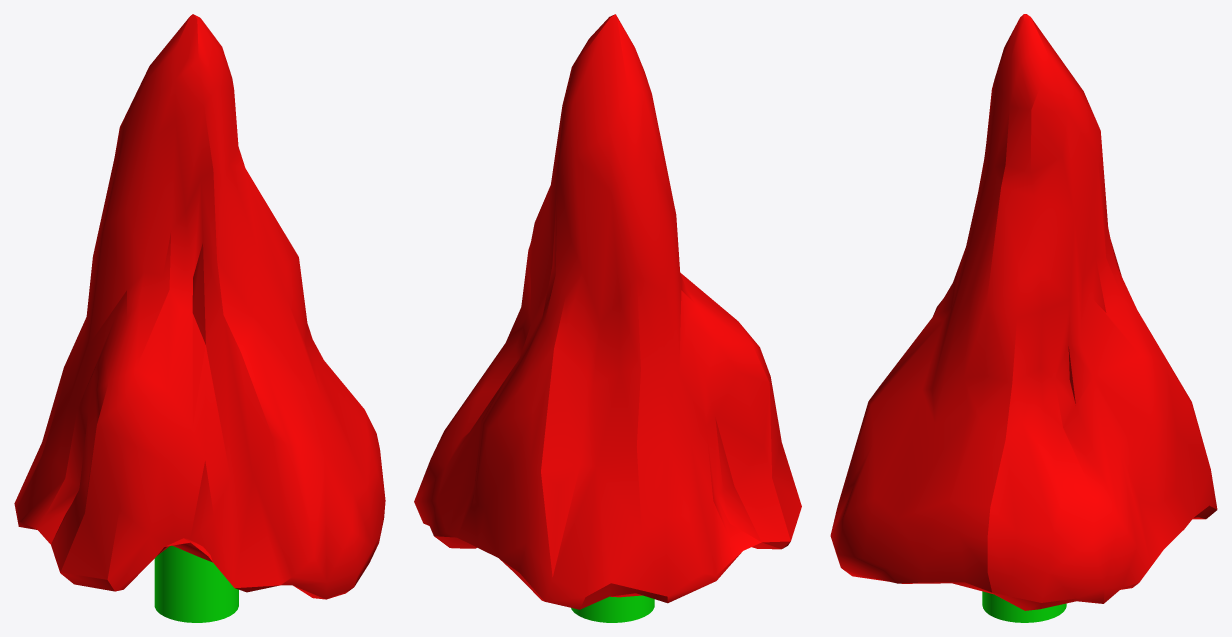
File: Christmas Tree 4.fbx
3 renders of one model, left to right at view 1: azimuth 30°, elevation 25°; view 2: azimuth 150°, elevation 25°; view 3: azimuth 270°, elevation 25°, orthographic.
Visible parts, largest first — view 1: Christmas Tree 4; view 2: Christmas Tree 4; view 3: Christmas Tree 4.
Boxes of the visible parts, x1,y1,x2,y2 form: Christmas Tree 4: (14,14,385,622); Christmas Tree 4: (414,14,801,622); Christmas Tree 4: (830,14,1217,622).
Bounding box in the file's own units: 145 × 252 × 150.
